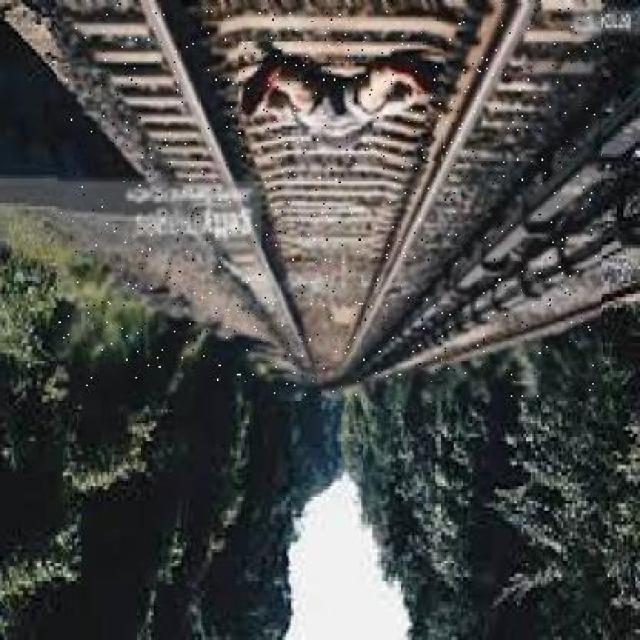danger: (238, 41, 444, 160)
rail: (59, 3, 601, 399)
